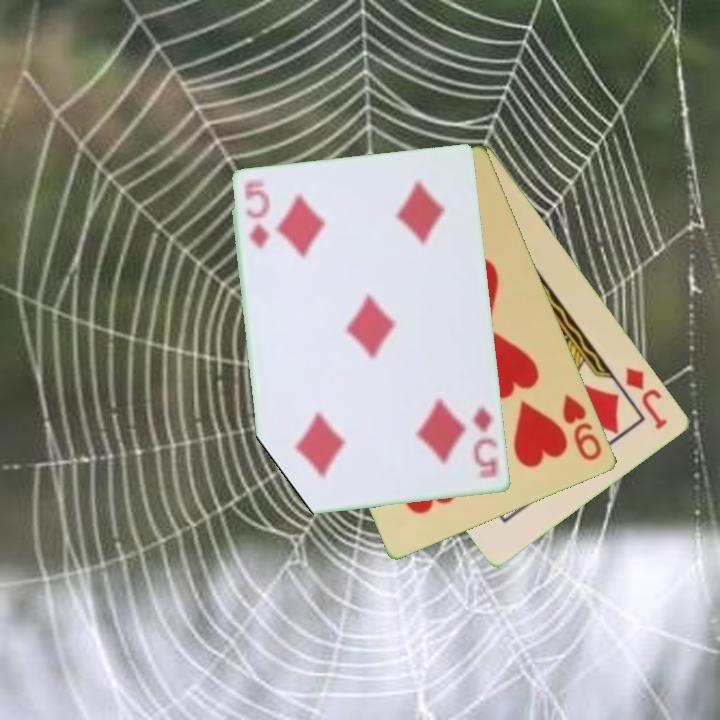5d: (241, 176, 273, 252), (470, 403, 500, 482)
9h: (559, 391, 606, 464)
Jd: (622, 364, 671, 433)
